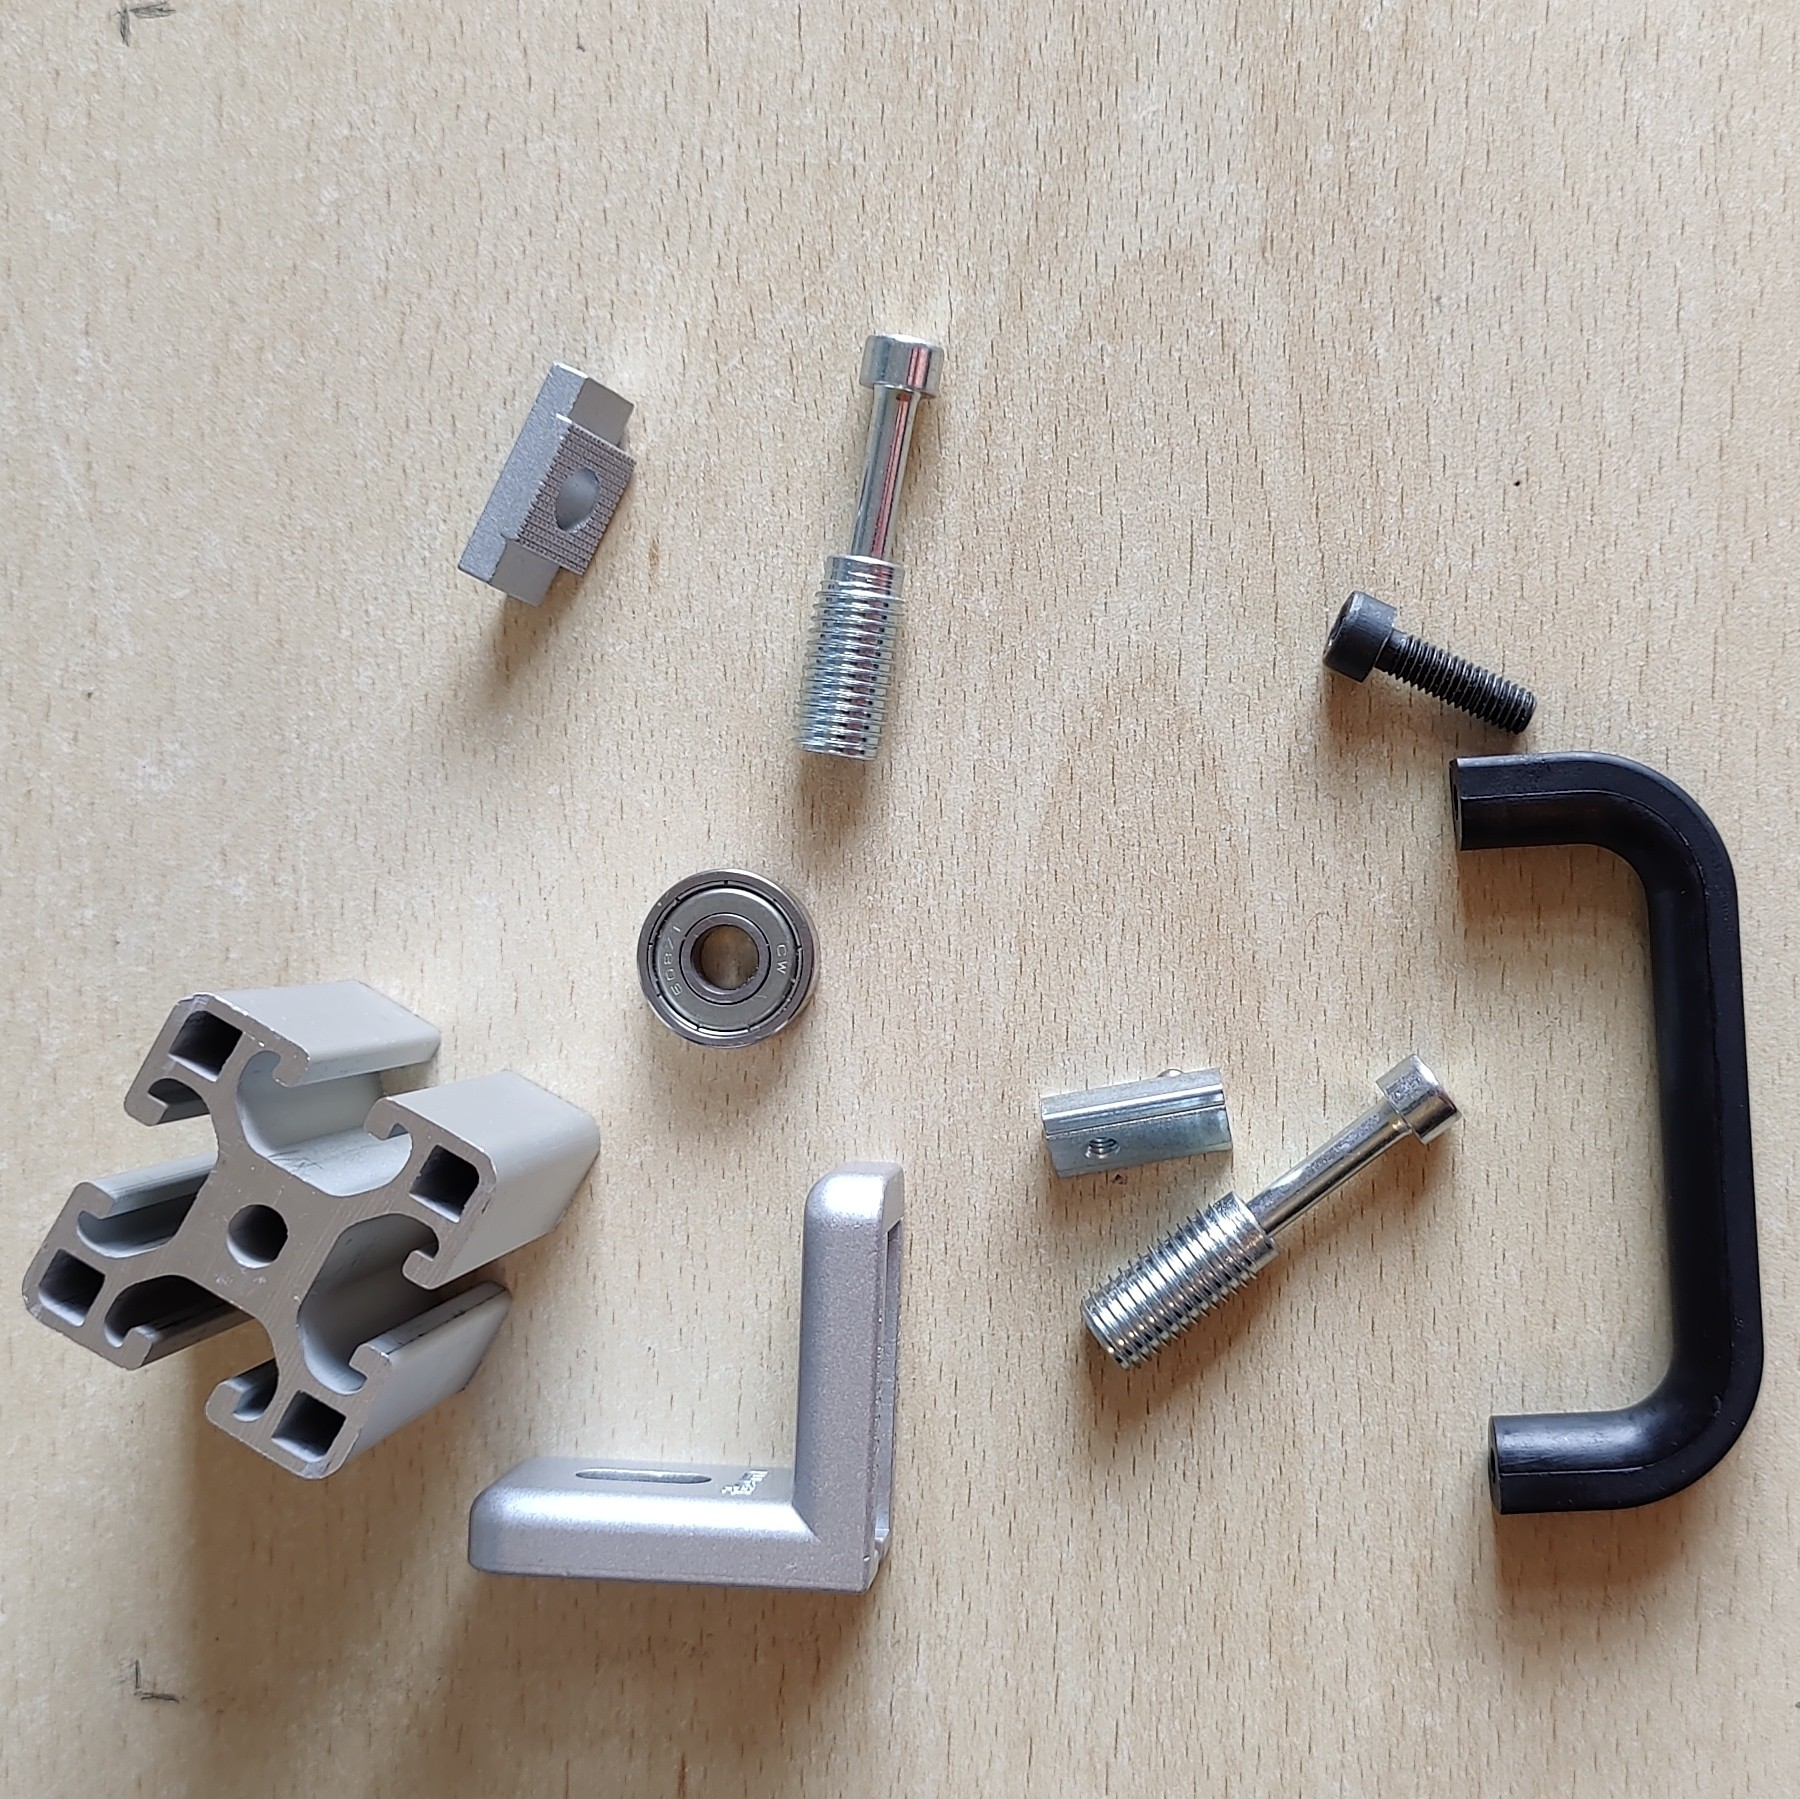Aluminium Extension: (21, 977, 598, 1483)
Ball Bearing: (636, 865, 823, 1053)
Multiwinkel: (463, 1156, 907, 1596)
Pull Handle: (1446, 748, 1769, 1517)
Shoulder Socket Head Cap Screw: (1077, 1049, 1466, 1372), (786, 333, 944, 764)
Socket Head Cap Screw: (1319, 590, 1540, 735)
T Nut Square: (455, 361, 639, 611)
T Spring Nut: (1036, 1064, 1237, 1185)
